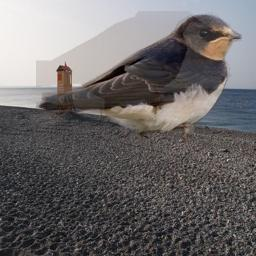Swallow: (36, 11, 242, 143)
